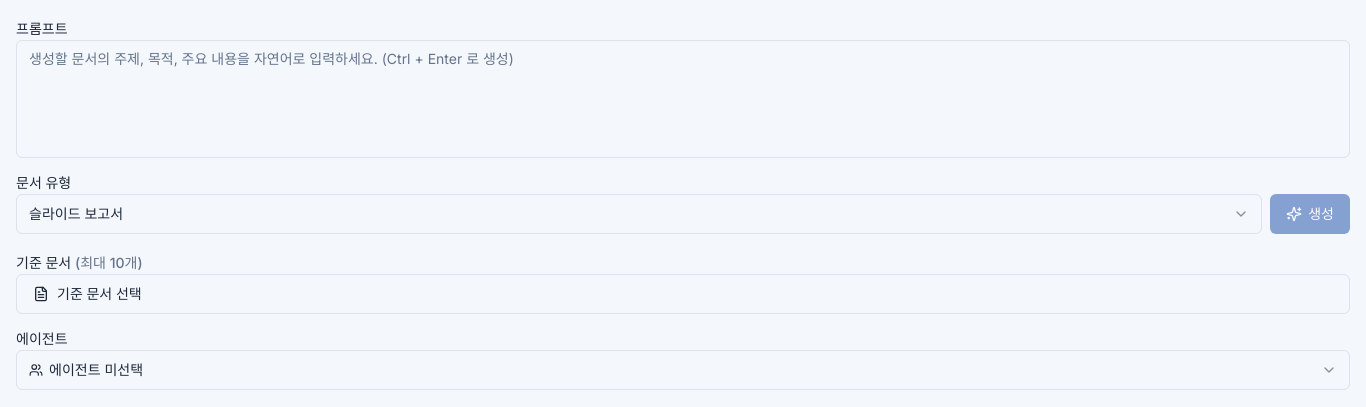
Test: PromptBox — 로딩 상태 › 요청 진행 중에는 textarea / 버튼이 disabled 되고 '생성 중' 라벨이 뜬다
Type "긴 문서" into the text box with test id "prompt-textarea" at (683,99), box [16, 40, 1350, 158]
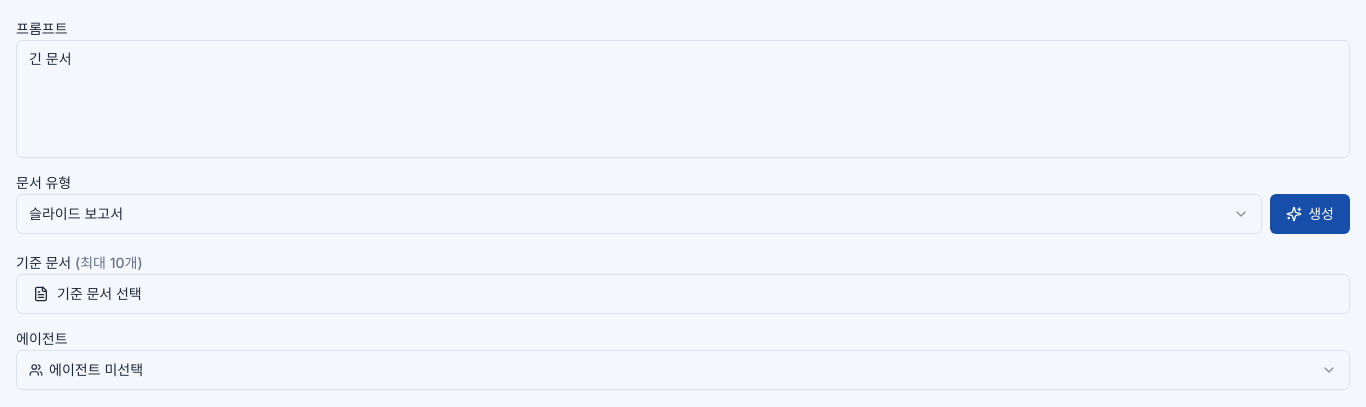
Click the button with test id "prompt-submit" at (1310,214), box [1270, 194, 1350, 234]
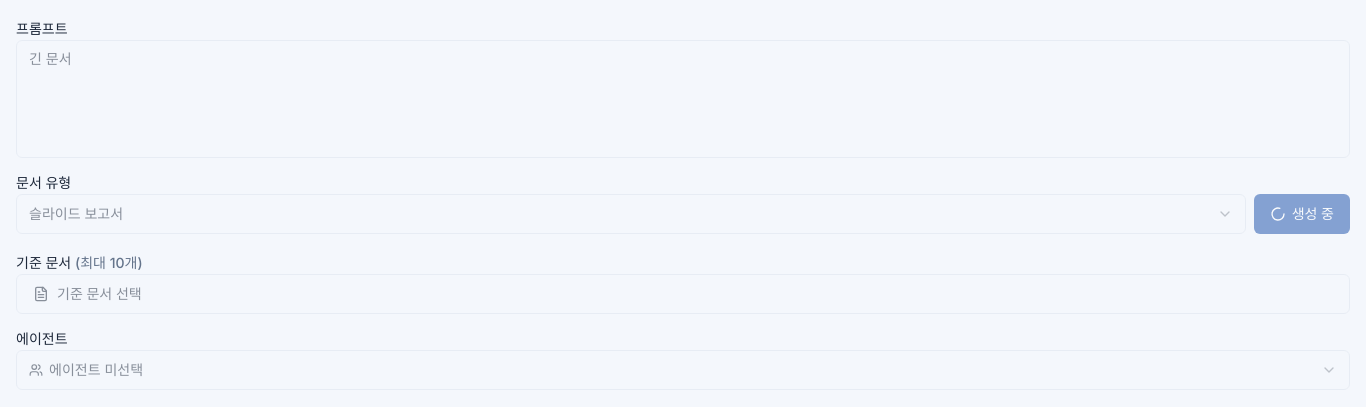
expect the button with test id "prompt-submit" shows "생성": met, box [1254, 194, 1350, 234]
expect the button with test id "prompt-submit" reads "생성 중": met, box [1254, 194, 1350, 234]
expect the text box with test id "prompt-textarea" is disabled: met, box [16, 40, 1350, 158]
